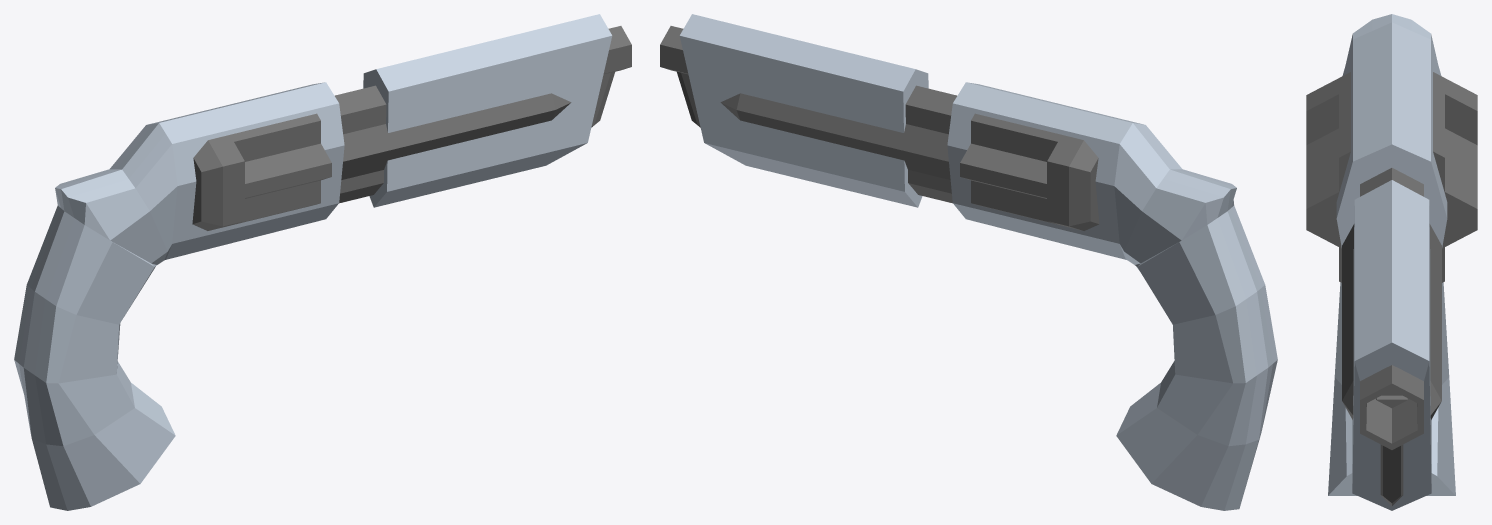
The model's file is Revolver.obj.
3 renders of one model, left to right at view 1: azimuth 30°, elevation 25°; view 2: azimuth 150°, elevation 25°; view 3: azimuth 270°, elevation 25°, orthographic. The views are drawn at different scales.
Visible parts, largest first — view 1: Cylinder.003, Cylinder.004, Cylinder.002, Cylinder.007, Cylinder.001, Cylinder; view 2: Cylinder.003, Cylinder.004, Cylinder.002, Cylinder.007, Cylinder.001, Cylinder; view 3: Cylinder.003, Cylinder.004, Cylinder.002, Cylinder.001, Cylinder.007, Cylinder.006.
Boxes of the visible parts, bbox=[...] form: Cylinder.003: bbox=[14, 82, 344, 510]; Cylinder.004: bbox=[363, 14, 612, 207]; Cylinder.002: bbox=[192, 113, 331, 230]; Cylinder.007: bbox=[341, 93, 571, 179]; Cylinder.001: bbox=[335, 26, 631, 134]; Cylinder: bbox=[339, 170, 383, 203]; Cylinder.003: bbox=[947, 82, 1277, 510]; Cylinder.004: bbox=[679, 14, 928, 207]; Cylinder.002: bbox=[960, 113, 1099, 230]; Cylinder.007: bbox=[720, 93, 950, 179]; Cylinder.001: bbox=[660, 26, 956, 134]; Cylinder: bbox=[908, 170, 952, 203]; Cylinder.003: bbox=[1328, 14, 1455, 495]; Cylinder.004: bbox=[1352, 180, 1431, 510]; Cylinder.002: bbox=[1306, 72, 1477, 282]; Cylinder.001: bbox=[1360, 168, 1423, 449]; Cylinder.007: bbox=[1342, 224, 1441, 419]; Cylinder.006: bbox=[1380, 444, 1403, 505].
Size of the model in its own units: 1.24 by 0.7154 by 0.2054.
2 materials, 2 textured.
